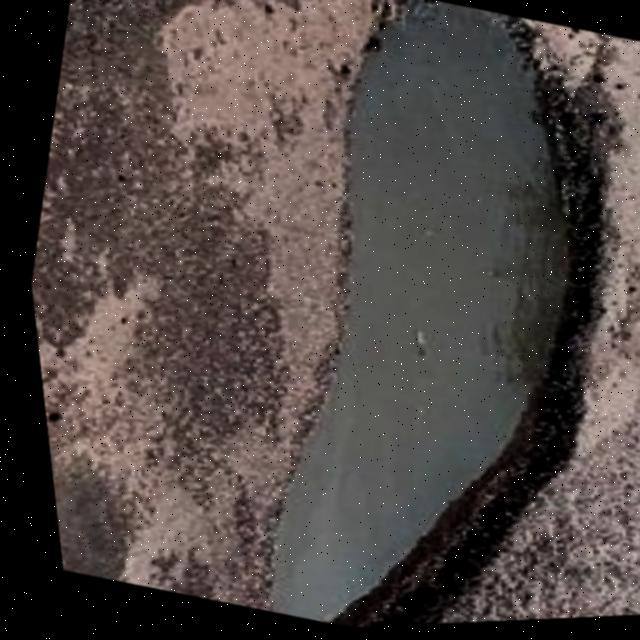Pothole: (54, 0, 640, 638)
